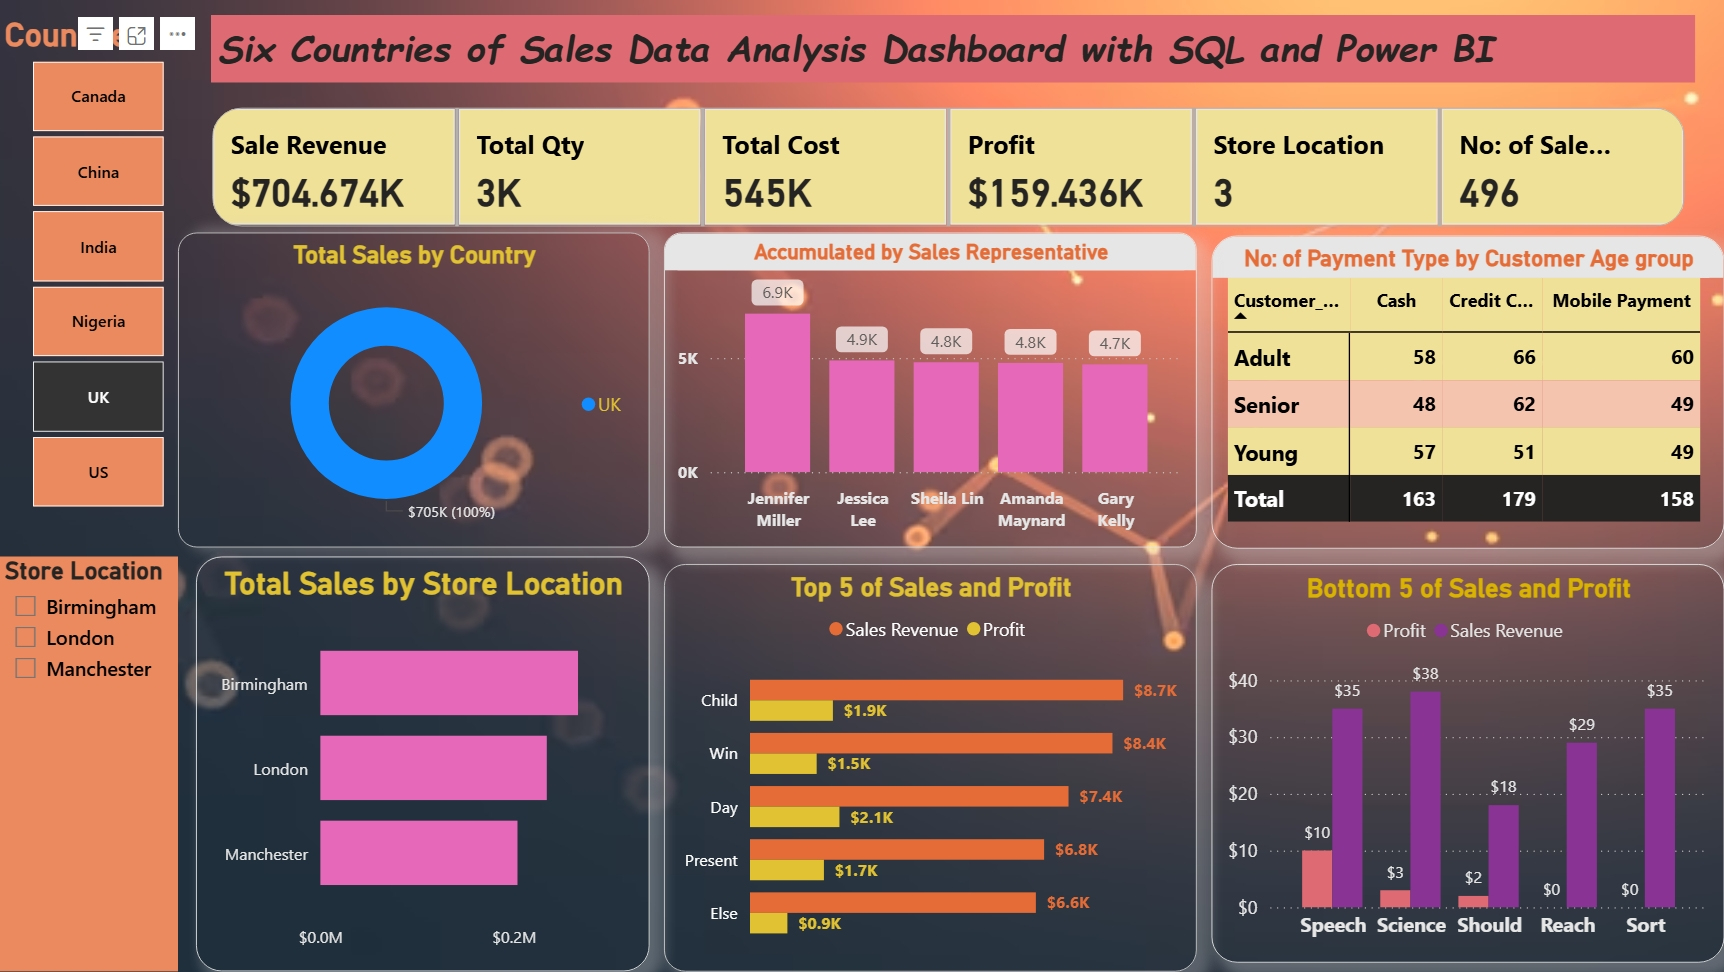

The page's visual inventory and layout, read from the dashboard file:
{"tool":"powerbi","page":{"name":"Page 1","canvas":[1280,720],"ordinal":0},"visuals":[{"type":"slicer","title":"Countries","fields":{"Values":["6countriessaledatabase allsalesdata.Country"]},"box":[0,10.6,146.9,371],"z":0},{"type":"cardVisual","fields":{"Data":["Measurement.Total Sales","Measurement.TotalQty","Sum(6countriessaledatabase allsalesdata.TotalCost)","Sum(6countriessaledatabase allsalesdata.Profit)","Count(6countriessaledatabase allsalesdata.Store_Location)","Count(6countriessaledatabase allsalesdata.Sales_Rep)"]},"box":[133.3,74.2,1146.3,98.4],"z":1000},{"type":"slicer","title":"Store Location","fields":{"Values":["6countriessaledatabase allsalesdata.Store_Location"]},"box":[0,411.9,133.3,307.4],"z":2000},{"type":"donutChart","fields":{"Category":["6countriessaledatabase allsalesdata.Country"],"Y":["Measurement.Total Sales"]},"box":[132.9,172.7,349.3,233.5],"z":3000},{"type":"pivotTable","title":"No: of Payment Type by Customer Age group","fields":{"Rows":["6countriessaledatabase allsalesdata.Customer_Age_Group"],"Columns":["6countriessaledatabase allsalesdata.Payment_Method"],"Values":["CountNonNull(6countriessaledatabase allsalesdata.Payment_Method)"]},"box":[899.4,174.1,380.1,231.7],"z":4000},{"type":"clusteredBarChart","title":"Top 5 of Sales and Profit","fields":{"Category":["6countriessaledatabase allsalesdata.Product_Name"],"Y":["Measurement.Total Sales","Sum(6countriessaledatabase allsalesdata.Profit)"]},"box":[493.5,417.6,394.8,301.8],"z":5000},{"type":"clusteredColumnChart","title":"Bottom 5 of Sales and Profit","fields":{"Category":["6countriessaledatabase allsalesdata.Product_Name"],"Y":["Sum(6countriessaledatabase allsalesdata.Profit)","Measurement.Total Sales"]},"box":[899.4,417.9,380.1,295.3],"z":6000},{"type":"barChart","title":"Total Sales by Store Location","fields":{"Category":["6countriessaledatabase allsalesdata.Store_Location"],"Y":["Measurement.Total Sales"]},"box":[146.2,411.9,336,307.5],"z":7000},{"type":"lineStackedColumnComboChart","title":"Accumulated by Sales Representative","fields":{"Category":["6countriessaledatabase allsalesdata.Sales_Rep"],"Y":["Measurement.Total YTD"]},"box":[493.5,172.7,394.8,233.5],"z":8000},{"type":"textbox","box":[157.5,10.6,1099.3,50],"z":9000}]}

Visuals, with their boxes on the page's 1280x720 design canvas (x1, y1, x2, y2). These are canvas units, not pixel positions in the 1724x972 screenshot, which may show the page scaled, cropped or inside an application window:
"Countries" slicer: box(0, 11, 147, 382)
cardVisual - Measurement.Total Sales x Measurement.TotalQty: box(133, 74, 1280, 173)
"Store Location" slicer: box(0, 412, 133, 719)
donutChart - 6countriessaledatabase allsalesdata.Country x Measurement.Total Sales: box(133, 173, 482, 406)
"No: of Payment Type by Customer Age group" pivotTable: box(899, 174, 1280, 406)
"Top 5 of Sales and Profit" clusteredBarChart: box(494, 418, 888, 719)
"Bottom 5 of Sales and Profit" clusteredColumnChart: box(899, 418, 1280, 713)
"Total Sales by Store Location" barChart: box(146, 412, 482, 719)
"Accumulated by Sales Representative" lineStackedColumnComboChart: box(494, 173, 888, 406)
textbox: box(158, 11, 1257, 61)
